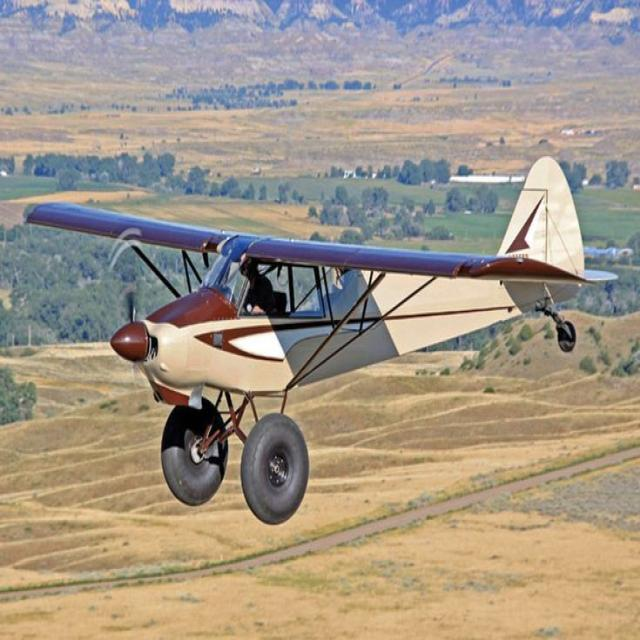iha: (22, 157, 618, 527)
